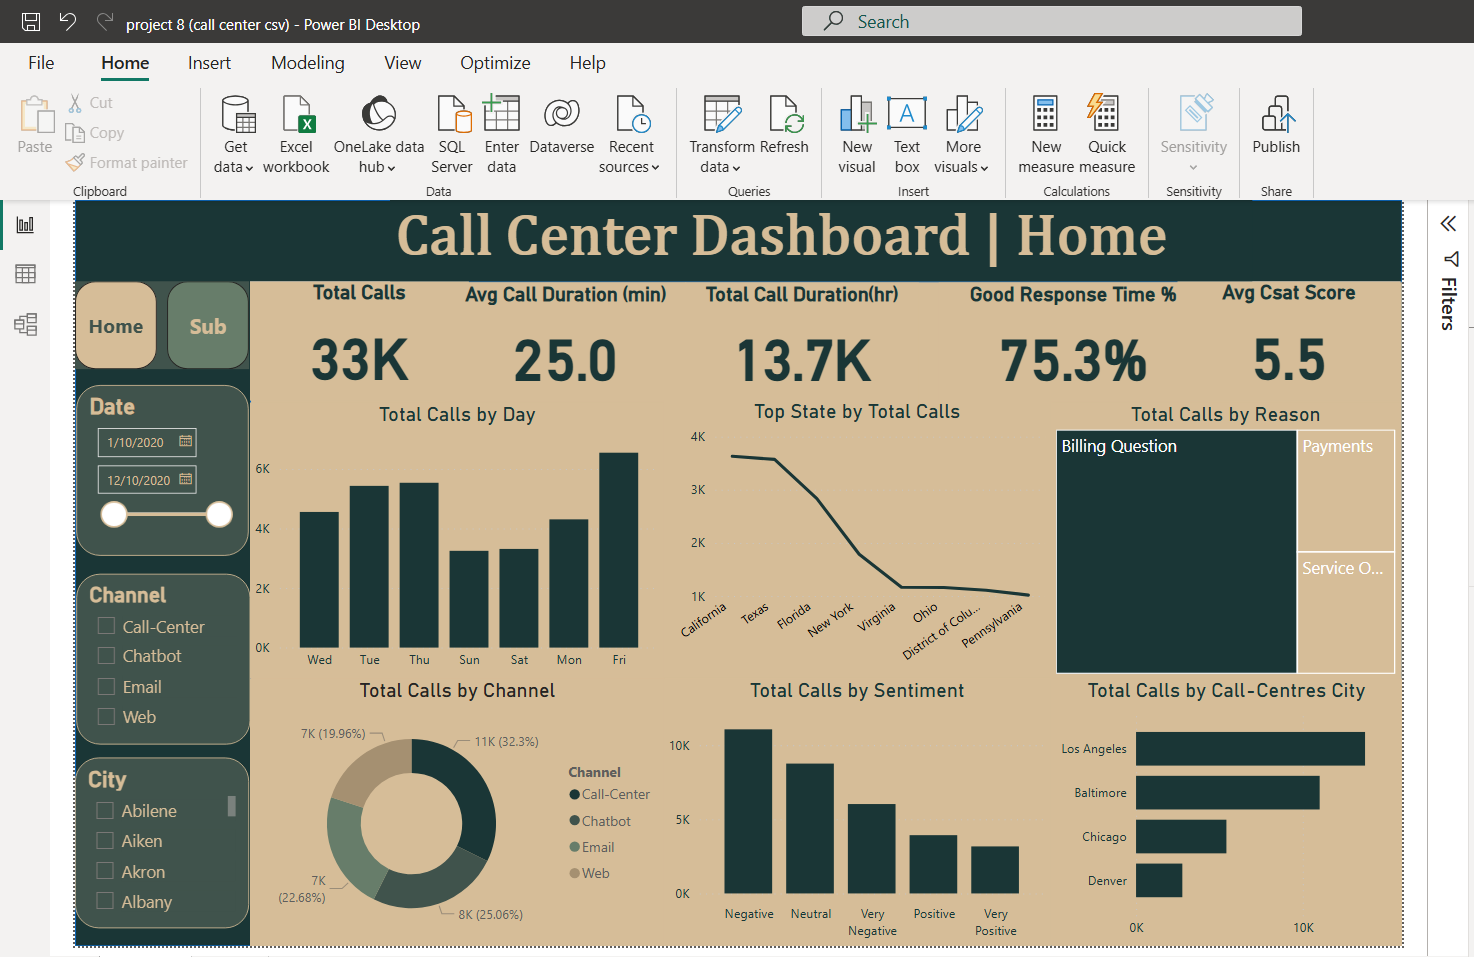

What the dashboard file says about the page in this screenshot:
{"tool":"powerbi","page":{"name":"Home","canvas":[1280,720],"ordinal":0},"visuals":[{"type":"shape","box":[0,0,1280.6,720.1],"z":0},{"type":"shape","box":[168.3,78.4,1112.3,641.7],"z":1000},{"type":"card","title":"Total Calls","fields":{"Values":["Dax Measure.Total Calls"]},"box":[168.3,78.4,211.1,115.5],"z":2000},{"type":"card","title":"Avg Call Duration (min)","fields":{"Values":["Dax Measure.Avg Call Duration(min)"]},"box":[356.5,79.9,232.4,115.5],"z":3000},{"type":"card","title":"Total Call Duration(hr)","fields":{"Values":["Dax Measure.Total Call Duration(hr)"]},"box":[589,79.9,225.3,115.5],"z":4000},{"type":"card","title":"Good Response Time %","fields":{"Values":["Dax Measure.Good Response Time %"]},"box":[832.8,79.9,259.5,115.5],"z":5000},{"type":"card","title":"Avg Csat Score","fields":{"Values":["Dax Measure.Avg Csat Score"]},"box":[1063.8,78.4,215.3,115.5],"z":6000},{"type":"textbox","box":[303.3,0,831.7,78.3],"z":7000},{"type":"columnChart","fields":{"Category":["Call Center_Call Center.Day"],"Y":["Dax Measure.Total Calls"]},"box":[168.3,195,400,266.7],"z":8000},{"type":"lineChart","title":"Top State by Total Calls","fields":{"Category":["Call Center_Call Center.State"],"Y":["Dax Measure.Total Calls"]},"box":[568.3,193.3,373.3,268.3],"z":9000},{"type":"treemap","fields":{"Group":["Call Center_Call Center.Reason"],"Values":["Dax Measure.Total Calls"]},"box":[941.7,195,336.7,266.7],"z":10000},{"type":"donutChart","fields":{"Category":["Call Center_Call Center.Channel"],"Y":["Dax Measure.Total Calls"]},"box":[168.3,461.7,400,258.3],"z":11000},{"type":"columnChart","fields":{"Category":["Call Center_Call Center.Sentiment"],"Y":["Dax Measure.Total Calls"]},"box":[568.3,461.7,373.3,258.3],"z":12000},{"type":"barChart","fields":{"Category":["Call Center_Call Center.Call-Centres City"],"Y":["Dax Measure.Total Calls"]},"box":[941.7,461.7,338.3,258.3],"z":13000},{"type":"slicer","title":"Date","fields":{"Values":["Call Center_Call Center.Call Timestamp"]},"box":[1.7,178.3,166.7,165],"z":14000},{"type":"slicer","title":"Channel","fields":{"Values":["Call Center_Call Center.Channel"]},"box":[1.7,360,168.3,165],"z":15000},{"type":"slicer","title":"City","fields":{"Values":["Call Center_Call Center.City"]},"box":[0,538.3,168.3,165],"z":16000},{"type":"pageNavigator","box":[0,78.3,168.3,85],"z":17000}]}

Visuals, with their boxes on the page's 1280x720 design canvas (x1, y1, x2, y2). These are canvas units, not pixel positions in the 1474x957 screenshot, which may show the page scaled, cropped or inside an application window:
shape: box(0, 0, 1281, 720)
shape: box(168, 78, 1281, 720)
"Total Calls" card: box(168, 78, 379, 194)
"Avg Call Duration (min)" card: box(356, 80, 589, 195)
"Total Call Duration(hr)" card: box(589, 80, 814, 195)
"Good Response Time %" card: box(833, 80, 1092, 195)
"Avg Csat Score" card: box(1064, 78, 1279, 194)
textbox: box(303, 0, 1135, 78)
columnChart - Call Center_Call Center.Day x Dax Measure.Total Calls: box(168, 195, 568, 462)
"Top State by Total Calls" lineChart: box(568, 193, 942, 462)
treemap - Call Center_Call Center.Reason x Dax Measure.Total Calls: box(942, 195, 1278, 462)
donutChart - Call Center_Call Center.Channel x Dax Measure.Total Calls: box(168, 462, 568, 720)
columnChart - Call Center_Call Center.Sentiment x Dax Measure.Total Calls: box(568, 462, 942, 720)
barChart - Call Center_Call Center.Call-Centres City x Dax Measure.Total Calls: box(942, 462, 1280, 720)
"Date" slicer: box(2, 178, 168, 343)
"Channel" slicer: box(2, 360, 170, 525)
"City" slicer: box(0, 538, 168, 703)
pageNavigator: box(0, 78, 168, 163)
